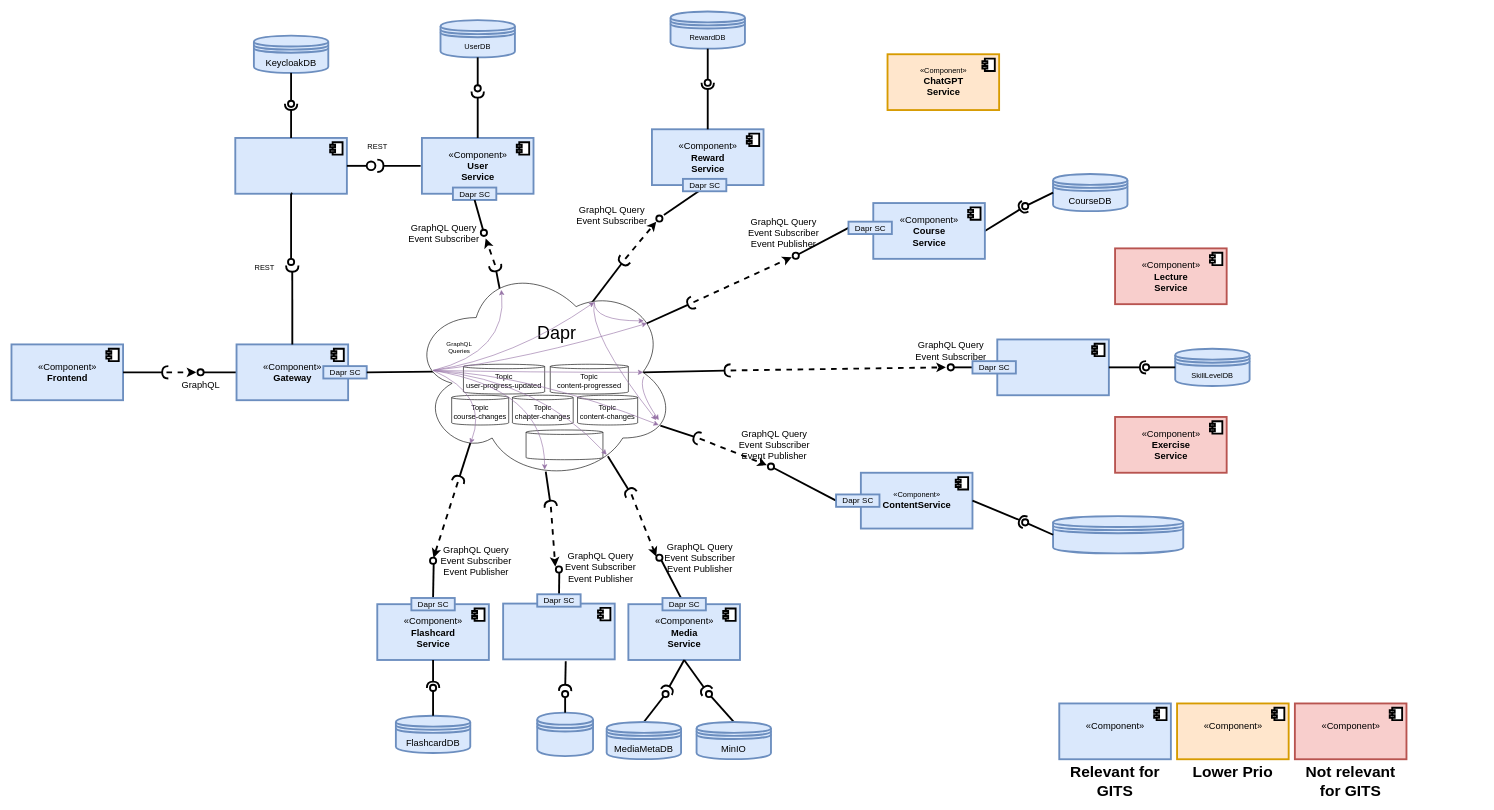
This 1494x810 diagram has some shape labels left out. The centre of each missing label's shape, as x and y in pixels:
"ContentDB" belongs at point (1118, 534).
"QuizDB" belongs at point (565, 734).
"Topic resource-association" belongs at point (564, 444).
"«Component» KeyCloak" belongs at point (291, 165).
"«Component» QuizService" belongs at point (558, 631).
"«Component» SkillLevel Service" belongs at point (1052, 367).
